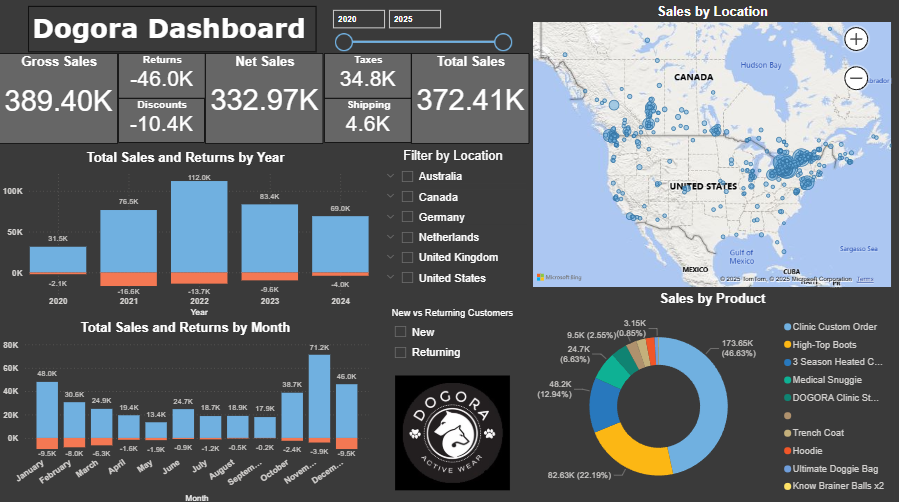

Layout of this report page (visuals, bound fields, positions):
{"tool":"powerbi","page":{"name":"Dashboard","canvas":[1280,720],"ordinal":0},"visuals":[{"type":"slicer","fields":{"Values":["sales_cleaned.date.Variation.Date Hierarchy.Year"]},"box":[464.2,0,277.1,78.1],"z":0},{"type":"textbox","box":[40.9,4.5,412.4,66.3],"z":1000},{"type":"card","title":"Total Sales","fields":{"Values":["Sum(sales_cleaned.total_sales)"]},"box":[589.2,71.3,169.5,129.8],"z":2000},{"type":"card","title":"Gross Sales","fields":{"Values":["Sum(sales_cleaned.gross_sales)"]},"box":[0,71.3,170,130],"z":3000},{"type":"card","title":"Returns","fields":{"Values":["Sum(sales_cleaned.returns)"]},"box":[169.5,71.3,125.1,65.5],"z":4000},{"type":"card","title":"Discounts","fields":{"Values":["Sum(sales_cleaned.discounts)"]},"box":[169.9,136.3,124.5,64.5],"z":5000},{"type":"card","title":"Taxes","fields":{"Values":["Sum(sales_cleaned.taxes)"]},"box":[464.2,70.9,125.4,65.4],"z":6000},{"type":"card","title":"Shipping","fields":{"Values":["Sum(sales_cleaned.shipping_charges)"]},"box":[464.2,136.3,125.4,64.5],"z":7000},{"type":"card","title":"Net Sales","fields":{"Values":["Sum(sales_cleaned.net_sales)"]},"box":[294.6,71.3,169.5,129.8],"z":8000},{"type":"columnChart","title":"Total Sales and Returns by Year","fields":{"Category":["sales_cleaned.date.Variation.Date Hierarchy.Year"],"Y":["Sum(sales_cleaned.total_sales)","Sum(sales_cleaned.returns)"]},"box":[0,210.4,533,243.1],"z":9000},{"type":"columnChart","title":"Total Sales and Returns by Month","fields":{"Y":["Sum(sales_cleaned.total_sales)","Sum(sales_cleaned.returns)"],"Category":["sales_cleaned.date.Variation.Date Hierarchy.Month"]},"box":[0,453.6,533,266.5],"z":10000},{"type":"map","title":"Sales by Location","fields":{"Size":["Sum(sales_cleaned.total_sales)"],"Category":["sales_cleaned.location"]},"box":[758.6,1.2,521.4,410.3],"z":11000},{"type":"donutChart","title":"Sales by Product","fields":{"Y":["Sum(sales_cleaned.total_sales)"],"Category":["sales_cleaned.product_title"]},"box":[758.6,411.5,521.4,308.6],"z":12000},{"type":"slicer","title":"Filter by Location","fields":{"Values":["sales_cleaned.billing_country","sales_cleaned.billing_region"]},"box":[538.7,207.1,219.8,218],"z":13000},{"type":"slicer","title":"New vs Returning Customers","fields":{"Values":["sales_cleaned.new_or_returning"]},"box":[553.2,435.1,189.9,91.8],"z":14000},{"type":"image","box":[553.2,526.9,189.9,173.5],"z":15000}]}

Visuals, with their boxes in screenshot pixels (x1, y1, x2, y2), scaled from the page's 1280x720 canvas onto the 899x502 screenshot:
slicer - sales_cleaned.date.Variation.Date Hierarchy.Year: x1=326, y1=0, x2=521, y2=54
textbox: x1=29, y1=3, x2=318, y2=49
"Total Sales" card: x1=414, y1=50, x2=533, y2=140
"Gross Sales" card: x1=0, y1=50, x2=119, y2=140
"Returns" card: x1=119, y1=50, x2=207, y2=95
"Discounts" card: x1=119, y1=95, x2=207, y2=140
"Taxes" card: x1=326, y1=49, x2=414, y2=95
"Shipping" card: x1=326, y1=95, x2=414, y2=140
"Net Sales" card: x1=207, y1=50, x2=326, y2=140
"Total Sales and Returns by Year" columnChart: x1=0, y1=147, x2=374, y2=316
"Total Sales and Returns by Month" columnChart: x1=0, y1=316, x2=374, y2=501
"Sales by Location" map: x1=533, y1=1, x2=898, y2=287
"Sales by Product" donutChart: x1=533, y1=287, x2=898, y2=501
"Filter by Location" slicer: x1=378, y1=144, x2=533, y2=296
"New vs Returning Customers" slicer: x1=389, y1=303, x2=522, y2=367
image: x1=389, y1=367, x2=522, y2=488
